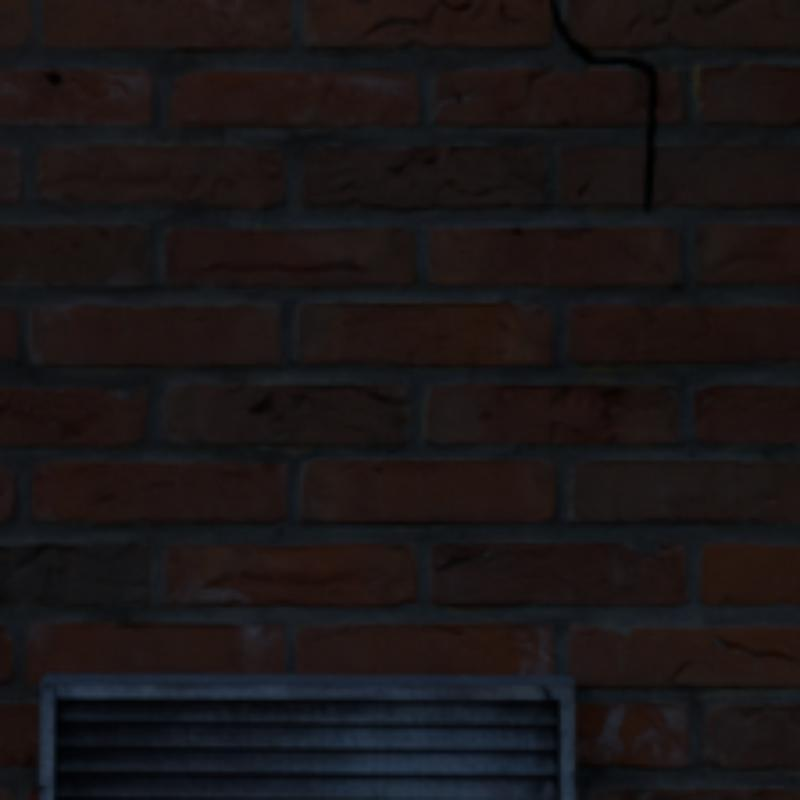pothole: (550, 0, 654, 211)
